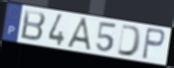4: (47, 13, 66, 48)
5: (95, 22, 119, 53)
A: (65, 16, 94, 53)
B: (19, 8, 47, 43)
D: (116, 23, 143, 58)
P: (141, 26, 167, 61)
